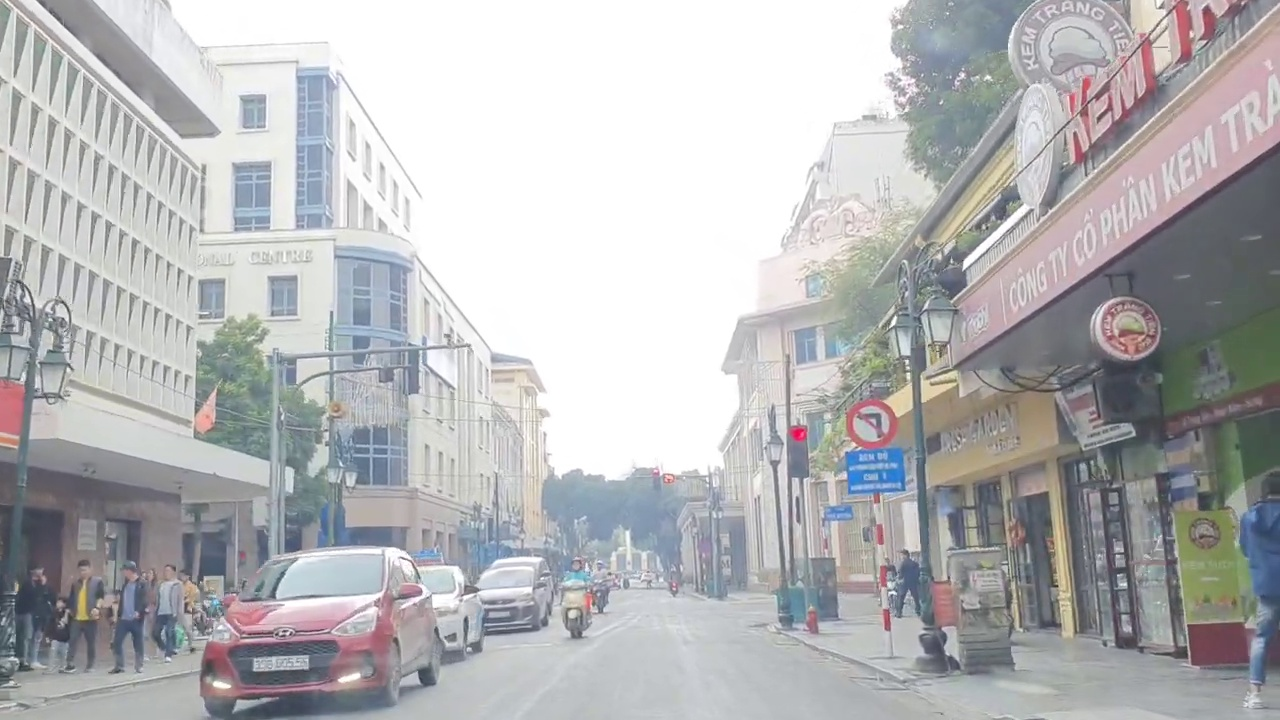person: (254, 656, 308, 671)
